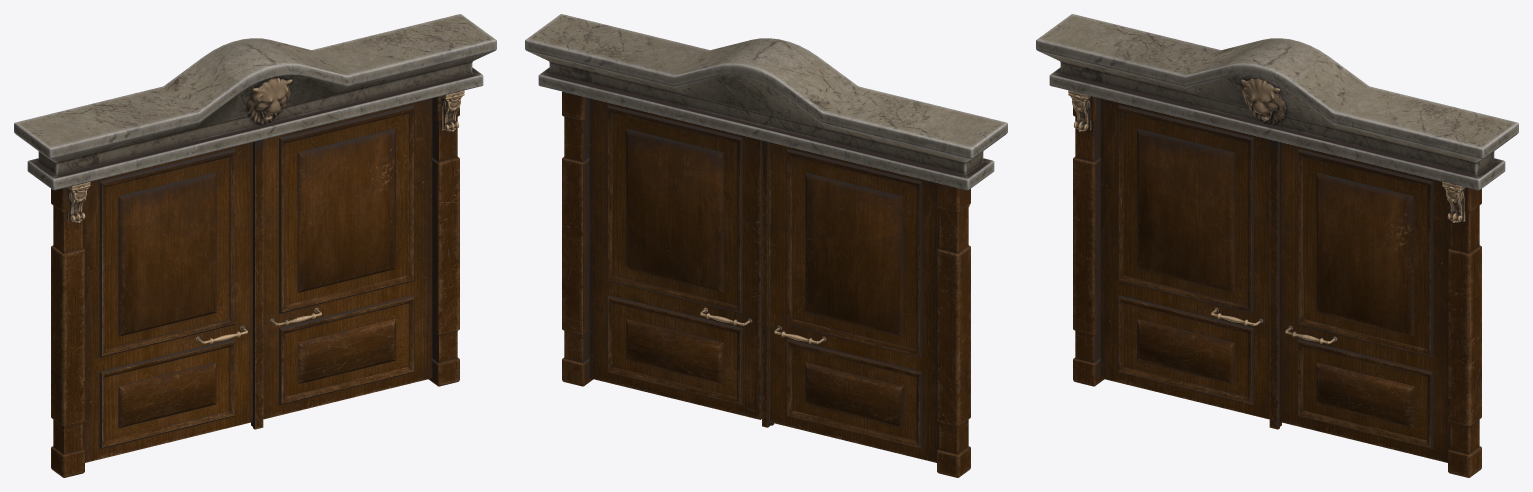
Rendered from doorPub.glb.
3 views of the same model, side by side, from view 1: azimuth 30°, elevation 25°; view 2: azimuth 150°, elevation 25°; view 3: azimuth 330°, elevation 25° (orthographic).
Visible parts, largest first — view 1: 03_03_0, 02_02_0, 01_01_0; view 2: 03_03_0, 02_02_0, 01_01_0; view 3: 03_03_0, 02_02_0, 01_01_0.
Part boxes in pixels (x1,y1,x2,y2): 03_03_0: (51, 90, 464, 477); 02_02_0: (99, 105, 414, 448); 01_01_0: (14, 14, 496, 190); 03_03_0: (562, 91, 970, 477); 02_02_0: (607, 105, 922, 448); 01_01_0: (525, 14, 1007, 190); 03_03_0: (1068, 90, 1481, 477); 02_02_0: (1118, 105, 1433, 448); 01_01_0: (1036, 14, 1518, 190).
Size of the model in its own units: 3.95 by 3.14 by 0.589.
3 materials, 3 textured.
